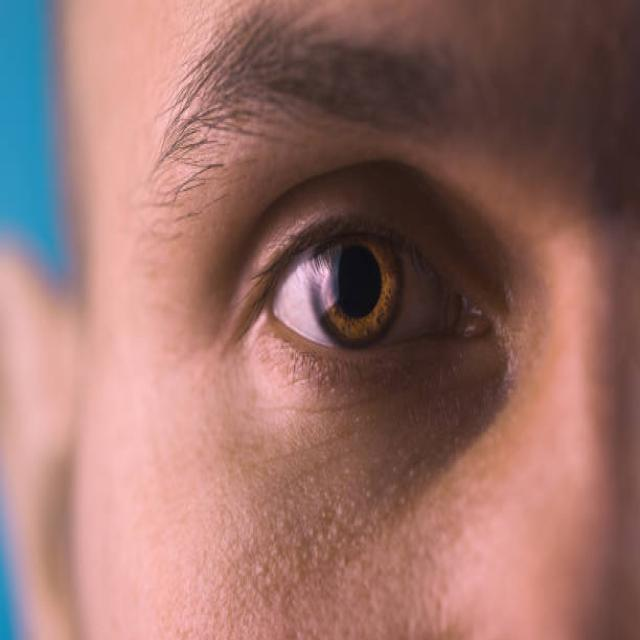no_dark_circle: (219, 347, 513, 454)
